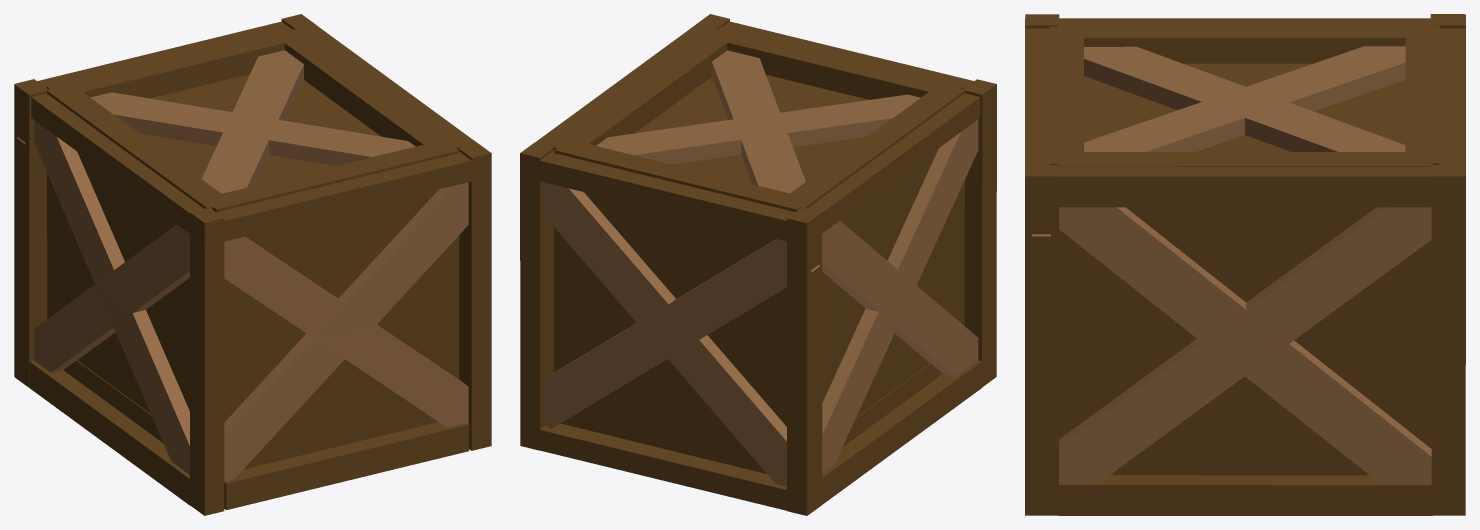
The model's file is Caja.fbx.
The picture shows the model from 3 angles, left to right: view 1: azimuth 30°, elevation 25°; view 2: azimuth 150°, elevation 25°; view 3: azimuth 270°, elevation 25°; orthographic projection. The views are drawn at different scales.
Visible parts, largest first — view 1: Cube.029; view 2: Cube.029; view 3: Cube.029.
Part boxes in pixels (x1,y1,x2,y2): Cube.029: (14,14,491,515); Cube.029: (520,14,996,515); Cube.029: (1025,14,1465,515).
Bounding box in the file's own units: 207 × 201 × 236.
34 materials, 34 textured.
